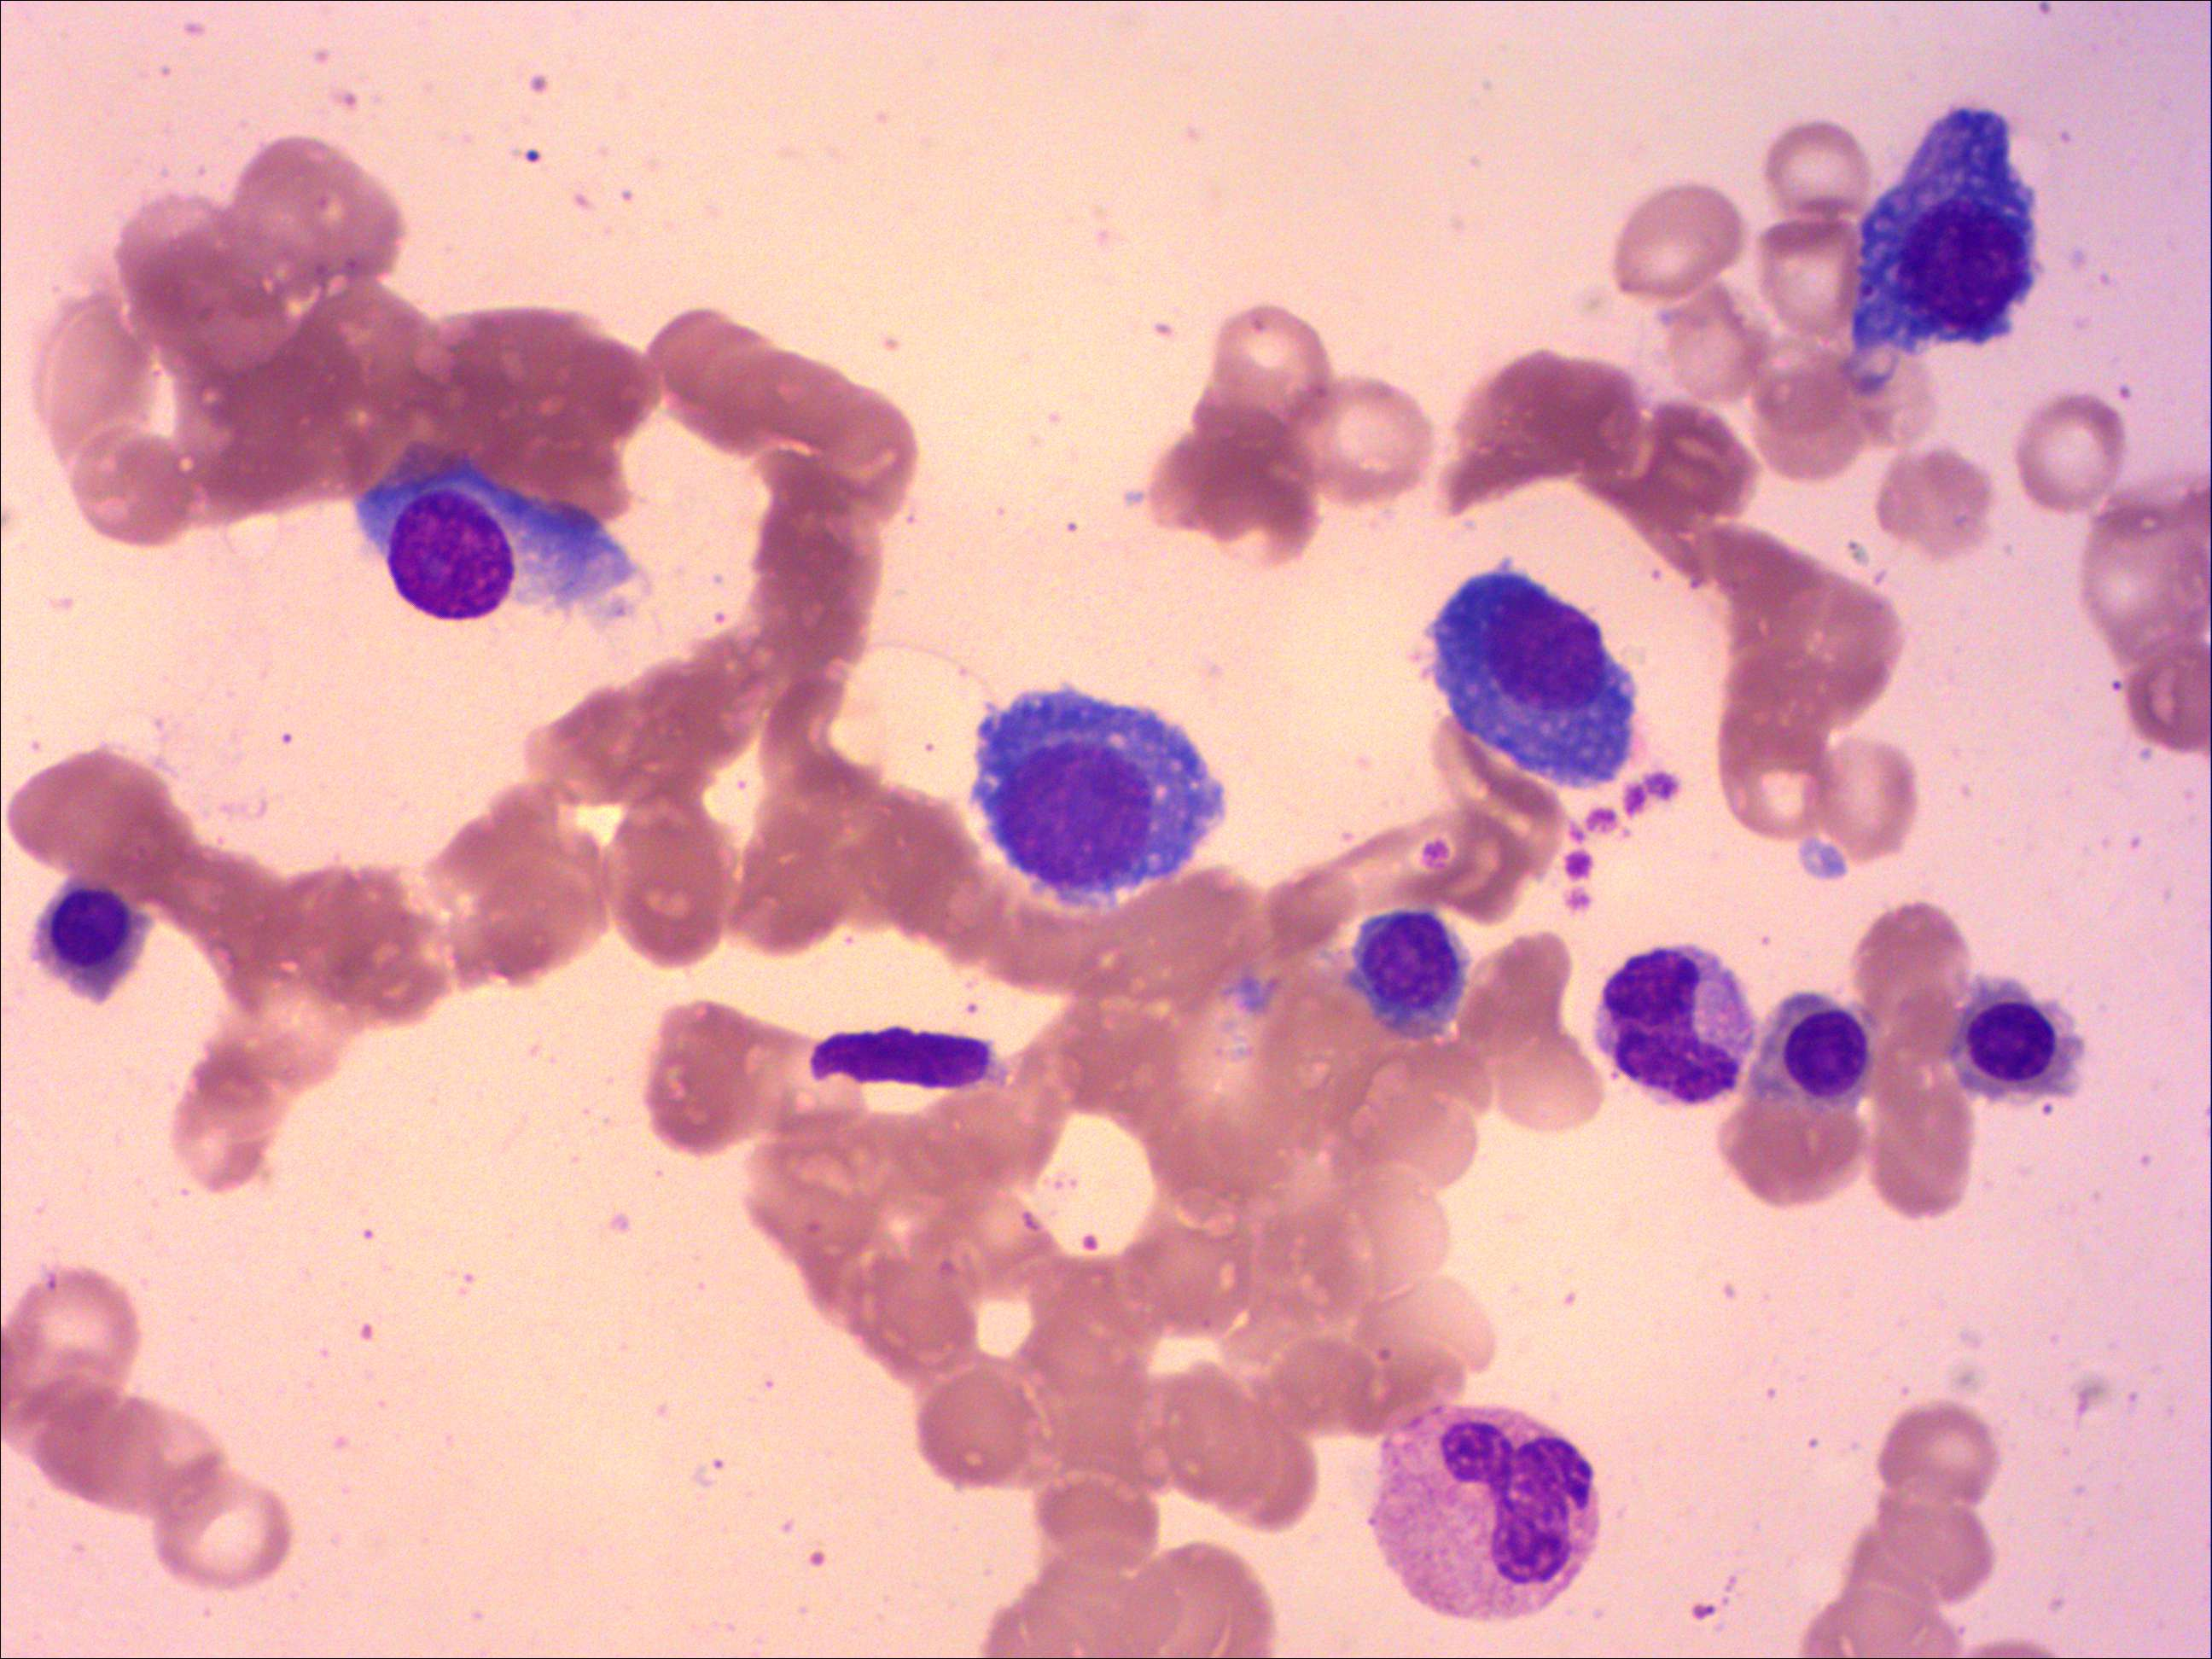23: (1338, 903, 1477, 1046), (19, 871, 155, 1009)
24: (1944, 969, 2090, 1110), (1743, 986, 1879, 1119)
5: (1585, 938, 1764, 1115)
51: (968, 680, 1230, 915), (357, 443, 660, 629), (1850, 105, 2047, 369), (1421, 561, 1641, 798)
6: (1362, 1399, 1604, 1629)
x: (808, 1023, 1001, 1103)
